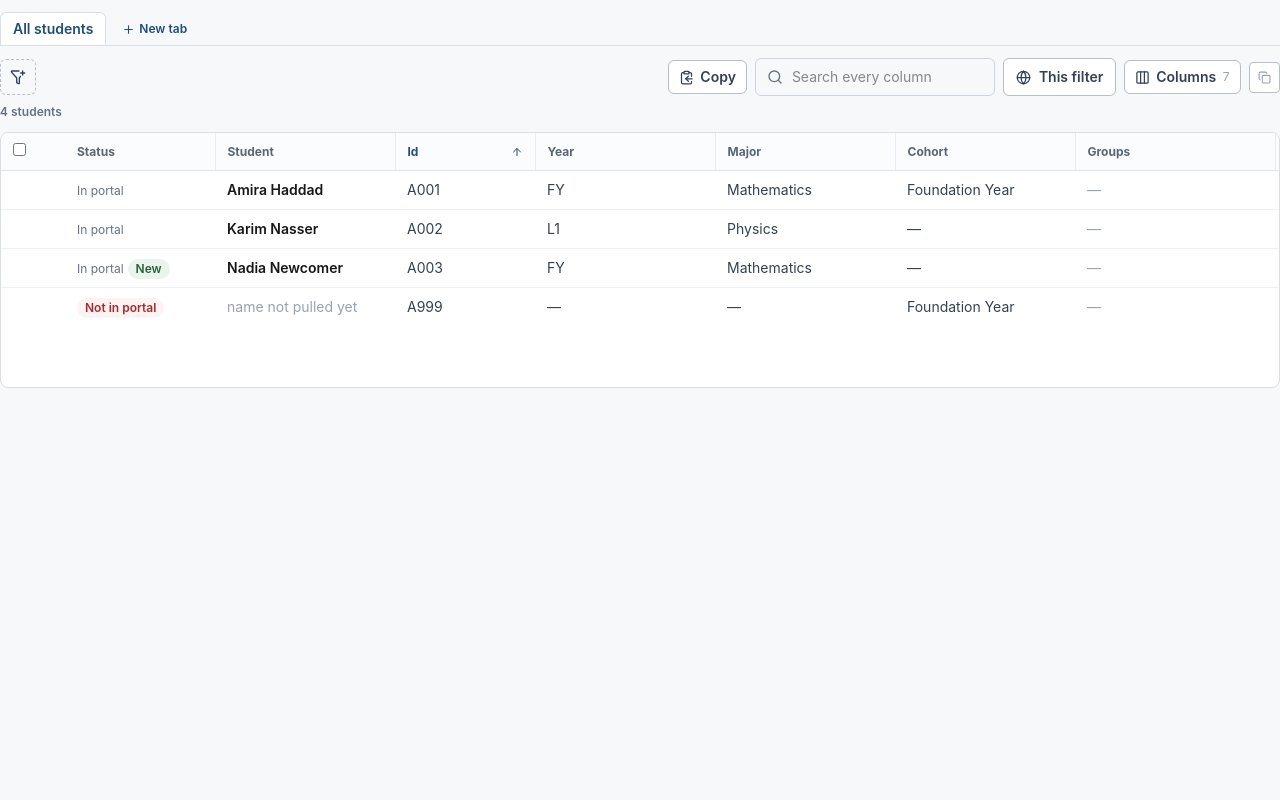
Test: StudentRoster › column filters › turns the operator plural on its own when a second value is chosen
Expected: the text "Amira Haddad" is shown, [227, 181, 323, 198]
Step 1. Click the button named "Filter" → click(18, 77), box [0, 59, 36, 95]
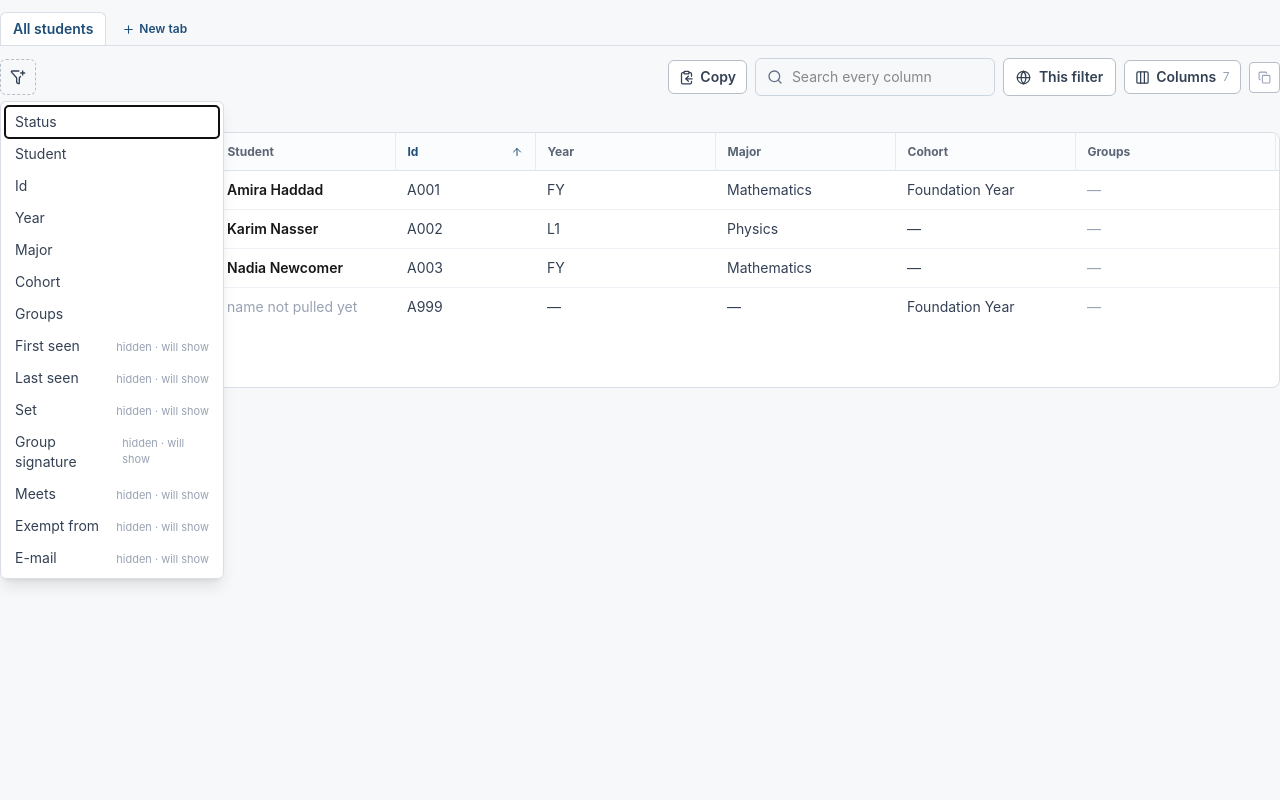
Step 2. Click the 2nd button "Year" → click(112, 218), box [5, 202, 219, 234]
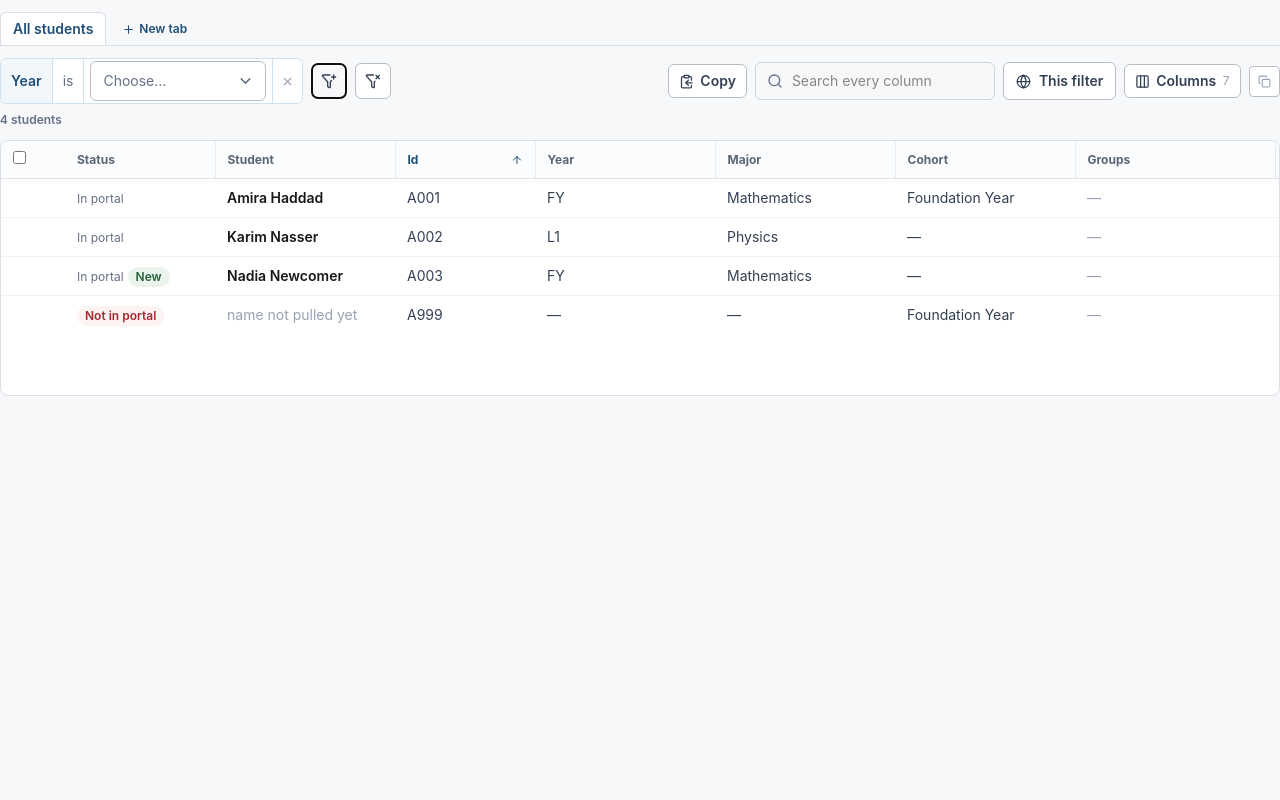
Step 3. Click the dropdown named "Year value" → click(178, 81), box [90, 61, 266, 101]
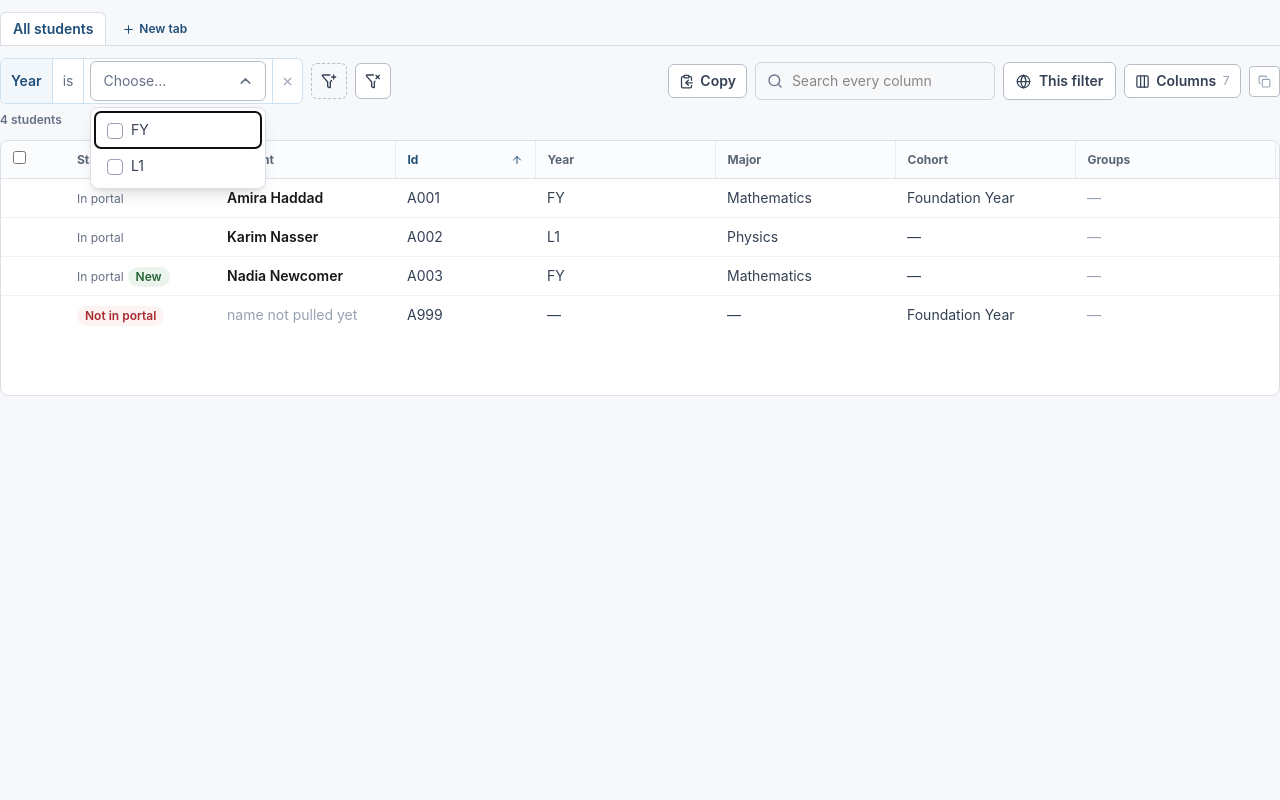
Step 4. Click the option "L1" → click(178, 166), box [95, 148, 261, 184]
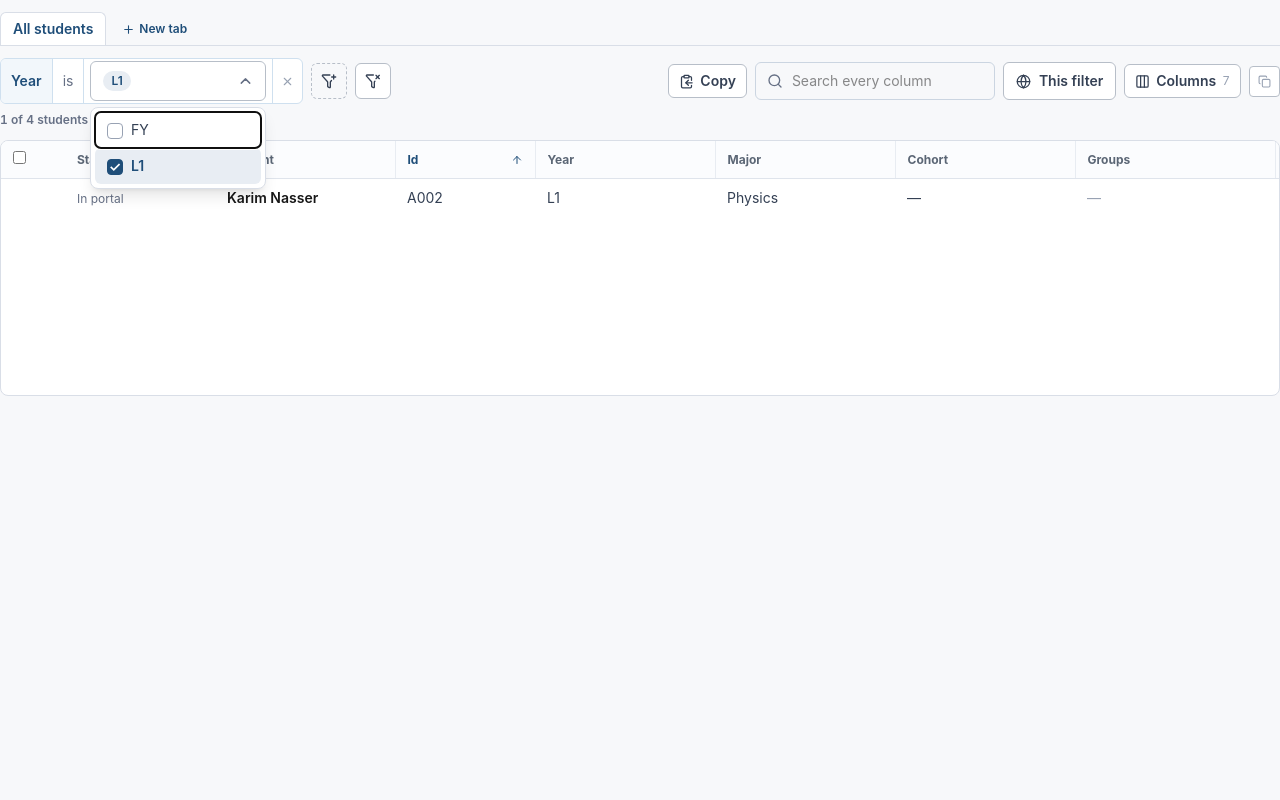
Result: the button with aria-label "Year operator" reads "is" at [53, 59, 83, 103]
Step 5. Click the option "FY" → click(178, 130), box [95, 112, 261, 148]
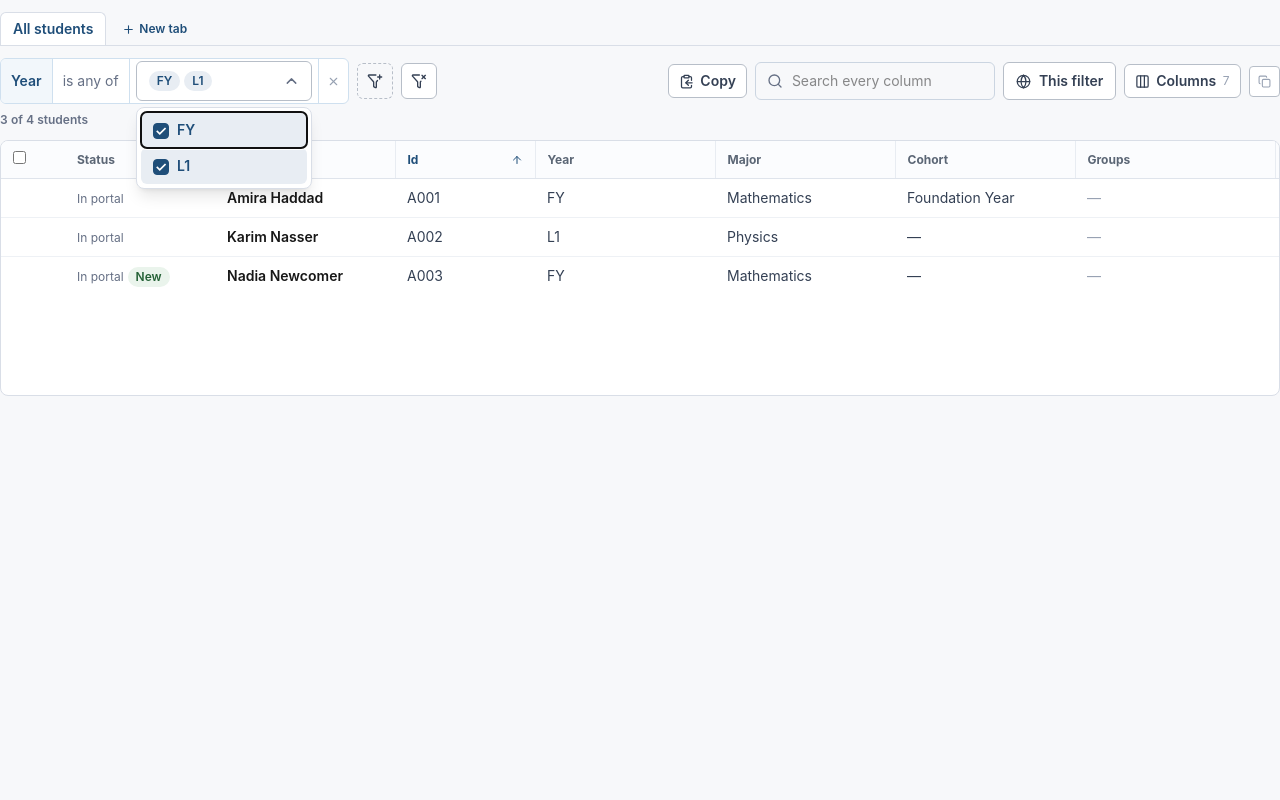
Result: the button with aria-label "Year operator" reads "is any of" at [53, 59, 129, 103]
Result: the text "Amira Haddad" is shown at [227, 189, 323, 206]
